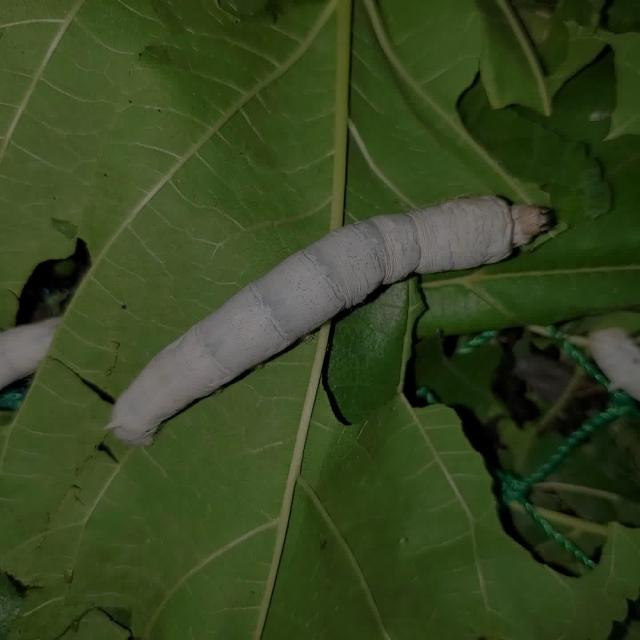Healthy: (88, 147, 566, 463)
